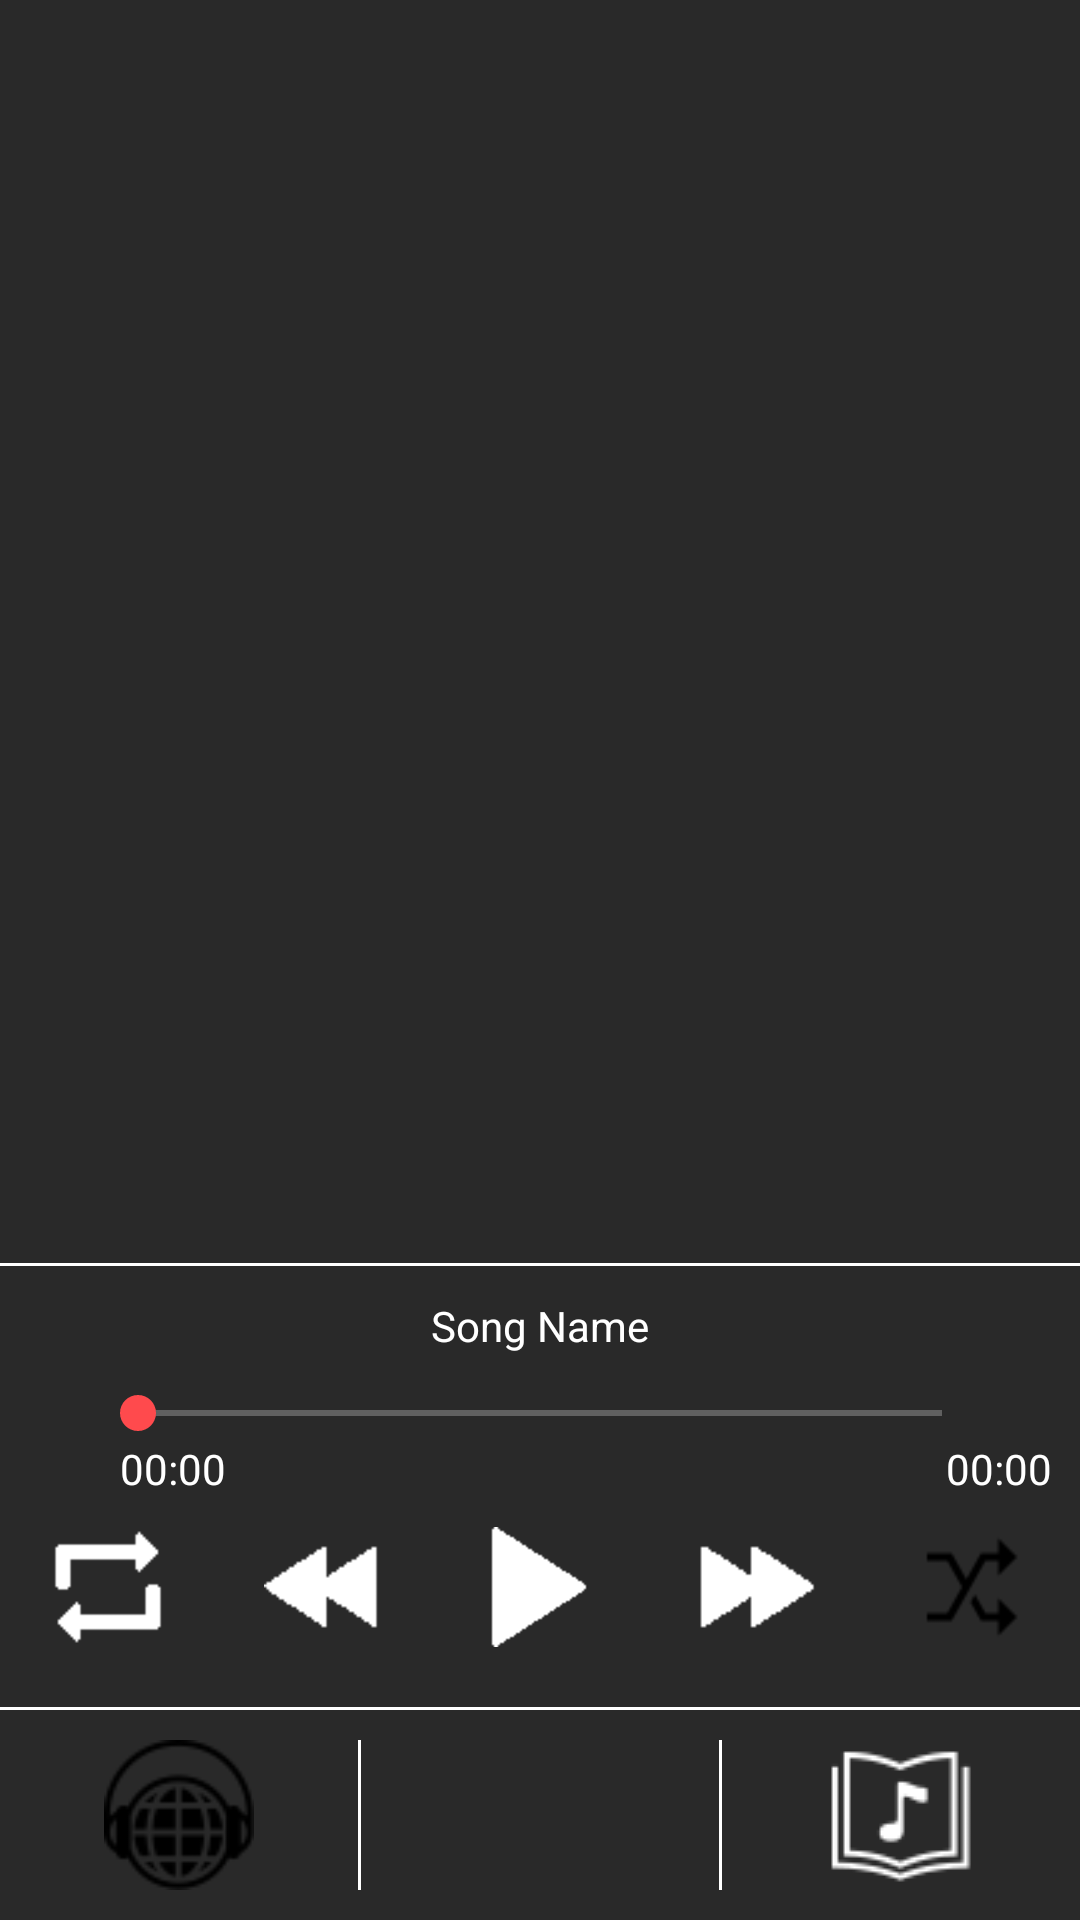

Screen size 1080px x 1920px. Icon name, then its box in pixels as (x1=x1, y1=y1, x2=x2, y2=y2):
lyrics: (x1=831, y1=1751, x2=971, y2=1882)
next track: (x1=700, y1=1546, x2=814, y2=1628)
play: (x1=491, y1=1527, x2=587, y2=1647)
prev track: (x1=264, y1=1546, x2=377, y2=1628)
repeat: (x1=55, y1=1531, x2=161, y2=1643)
shuffle: (x1=927, y1=1541, x2=1015, y2=1633)
suggested songs: (x1=104, y1=1740, x2=252, y2=1888)
